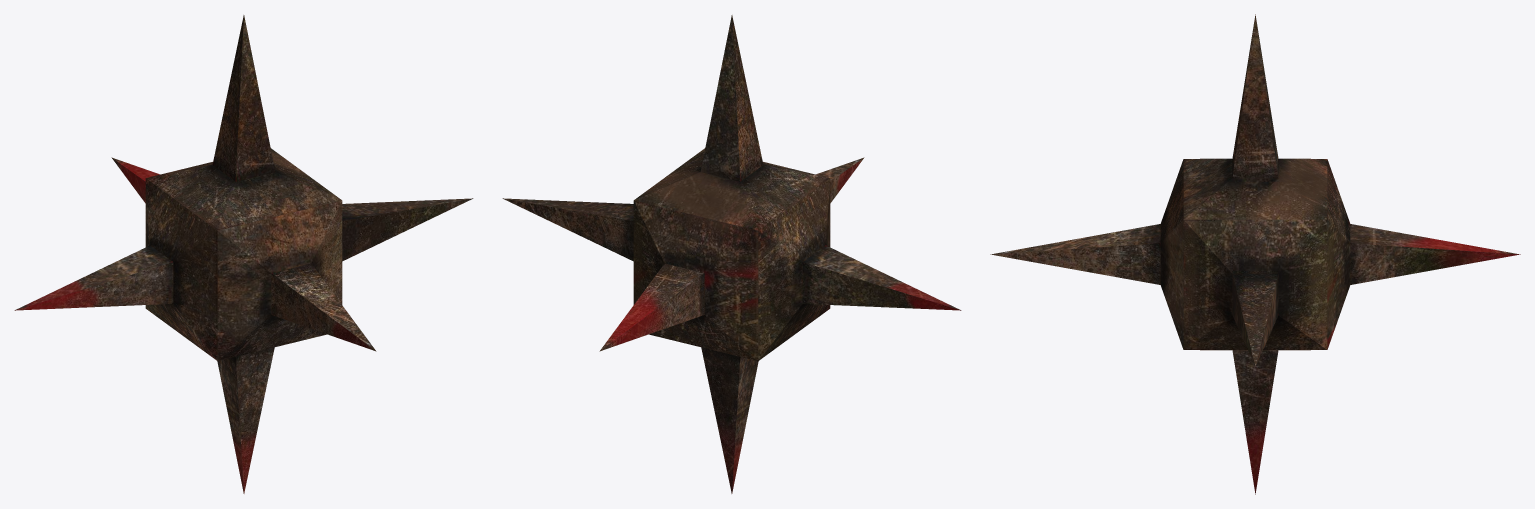
The model's file is Pinchosonashex2.fbx.
The picture shows the model from 3 angles, left to right: view 1: azimuth 30°, elevation 25°; view 2: azimuth 150°, elevation 25°; view 3: azimuth 270°, elevation 25°; orthographic projection.
Visible parts, largest first — view 1: PINCHSOSO; view 2: PINCHSOSO; view 3: PINCHSOSO.
Part boxes in pixels (<box>): PINCHSOSO: <box>14,15,473,493</box>; PINCHSOSO: <box>502,15,961,493</box>; PINCHSOSO: <box>990,14,1520,494</box>.
Size of the model in its own units: 1305 by 1305 by 1305.
Materials: 1 (1 with a texture image).
